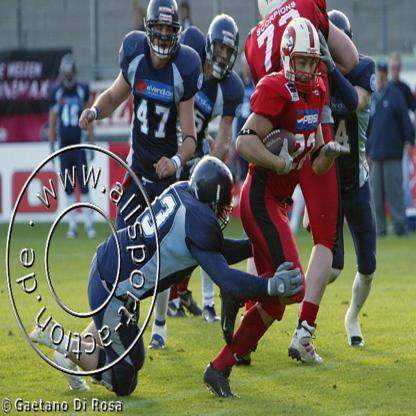face: (291, 45, 323, 95), (152, 14, 178, 62), (211, 33, 236, 78)
